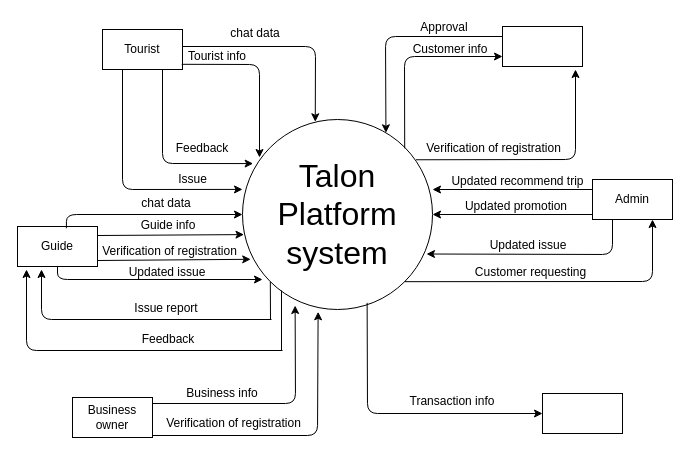
Some shapes in this 690 by 461 pixel diagram are drawn without their labels. Each missing label, with the centre of its shape:
"HR" belongs at point (542, 46).
"Payment Gateway" belongs at point (582, 413).
